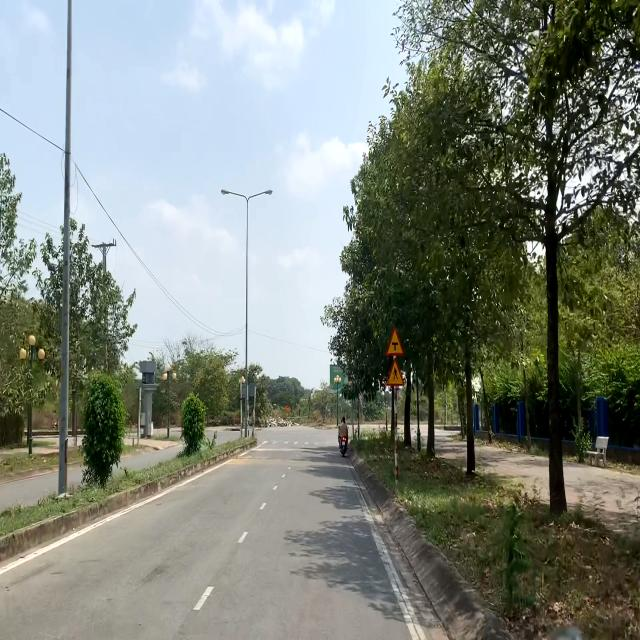W.205d: (384, 326, 404, 357)
W.224: (386, 358, 405, 386)
